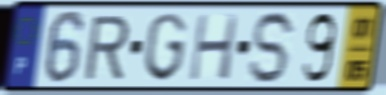6: (43, 8, 86, 87)
9: (301, 10, 339, 85)
G: (141, 11, 189, 84)
H: (187, 12, 241, 83)
R: (81, 13, 132, 83)
S: (247, 8, 299, 86)
